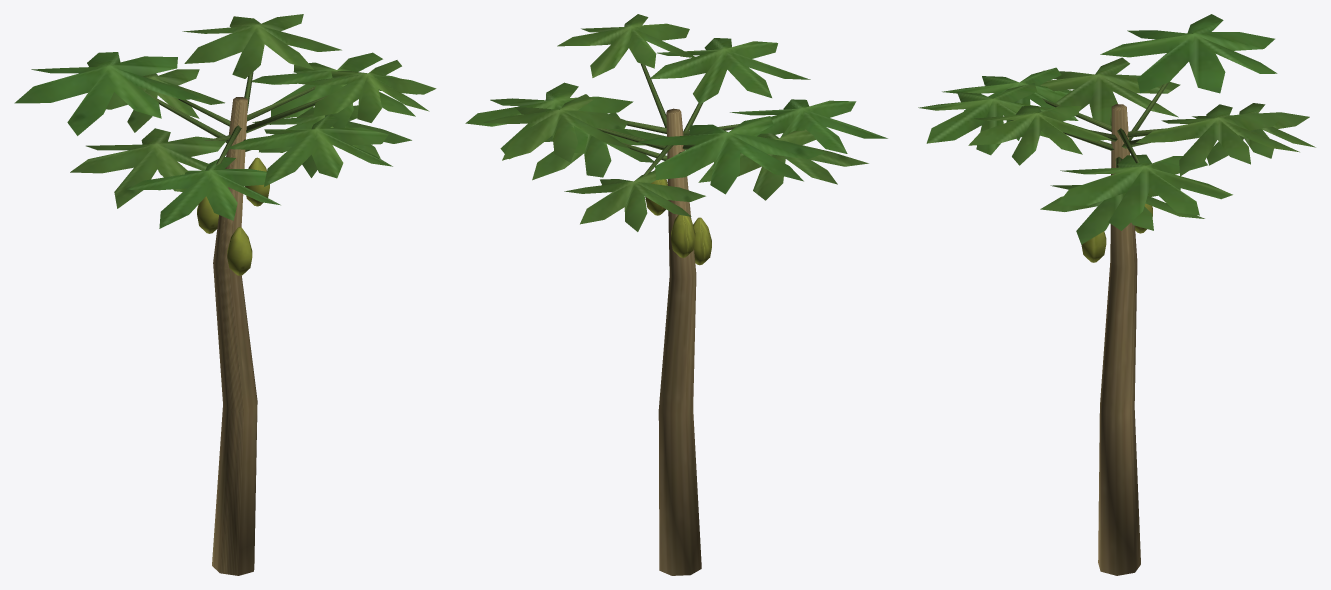
Rendered from Papaya_Tree.glb.
3 views of the same model, side by side, from view 1: azimuth 30°, elevation 25°; view 2: azimuth 150°, elevation 25°; view 3: azimuth 270°, elevation 25° (orthographic). The views are drawn at different scales.
Parts seen in each view (by area): view 1: Papaya_Tree; view 2: Papaya_Tree; view 3: Papaya_Tree.
Boxes of the visible parts, x1=… form: Papaya_Tree: x1=14, y1=14, x2=436, y2=575; Papaya_Tree: x1=465, y1=14, x2=887, y2=575; Papaya_Tree: x1=918, y1=14, x2=1315, y2=575.
Size of the model in its own units: 2.19 by 2.85 by 2.07.
Materials: 1 (1 with a texture image).
